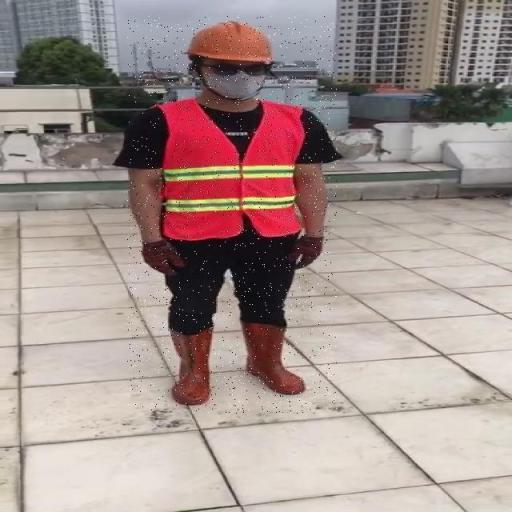Boots: (242, 321, 304, 396), (168, 326, 218, 405)
Helmet: (180, 18, 280, 66)
Person: (127, 16, 337, 414)
